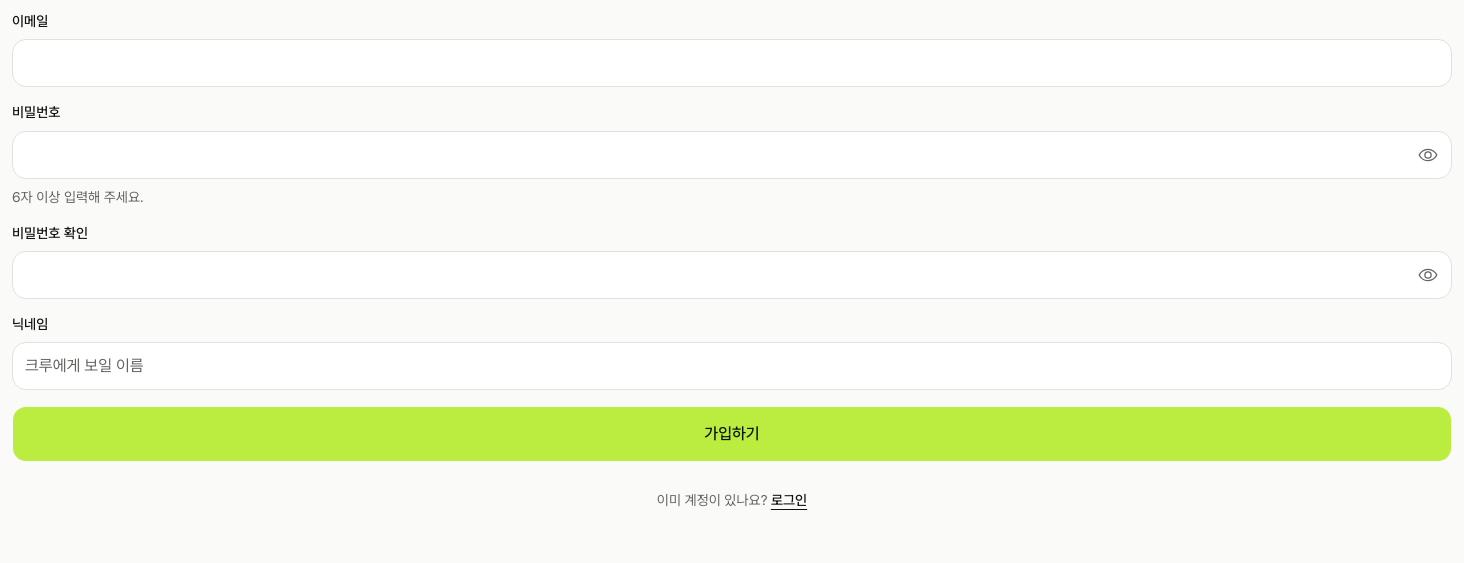
Test: AuthForm › 가입에 실패해도 입력한 값이 모두 남아 있다
The width and height of the screenshot is (1464, 563).
Type "runner@example.com" into the field labelled "이메일" at (732, 63), box [12,39,1452,87]
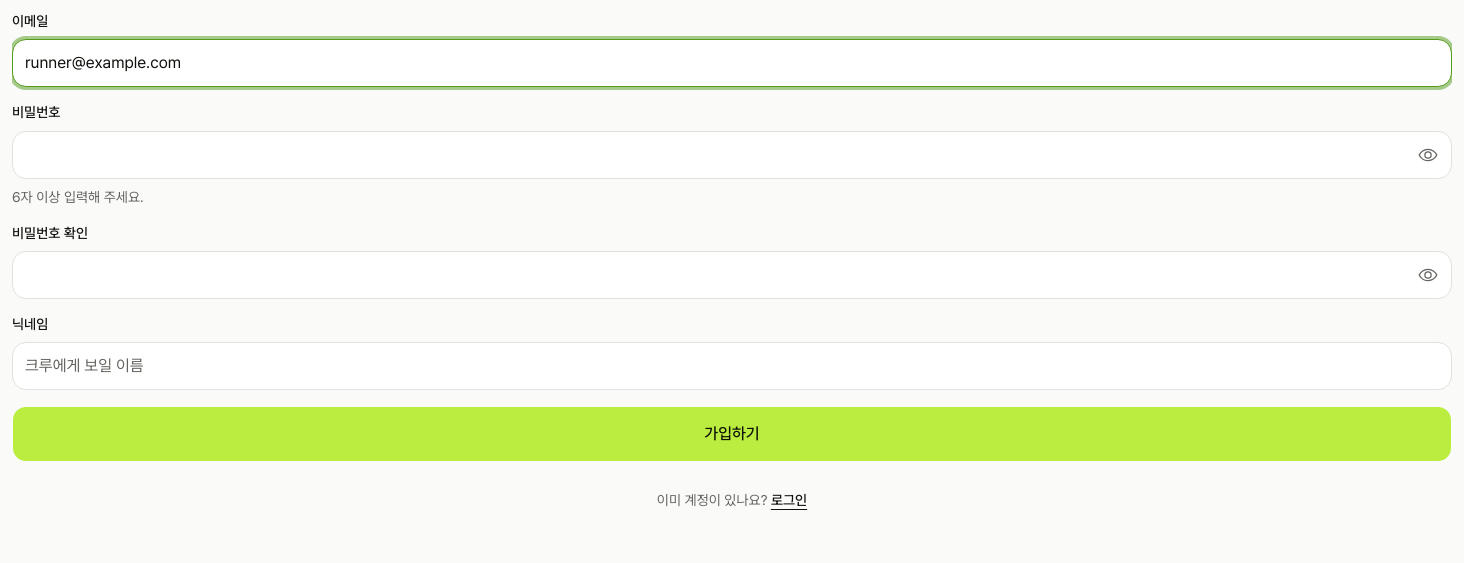
Type "123456" into the password field labelled "비밀번호" at (732, 154), box [12,130,1452,178]
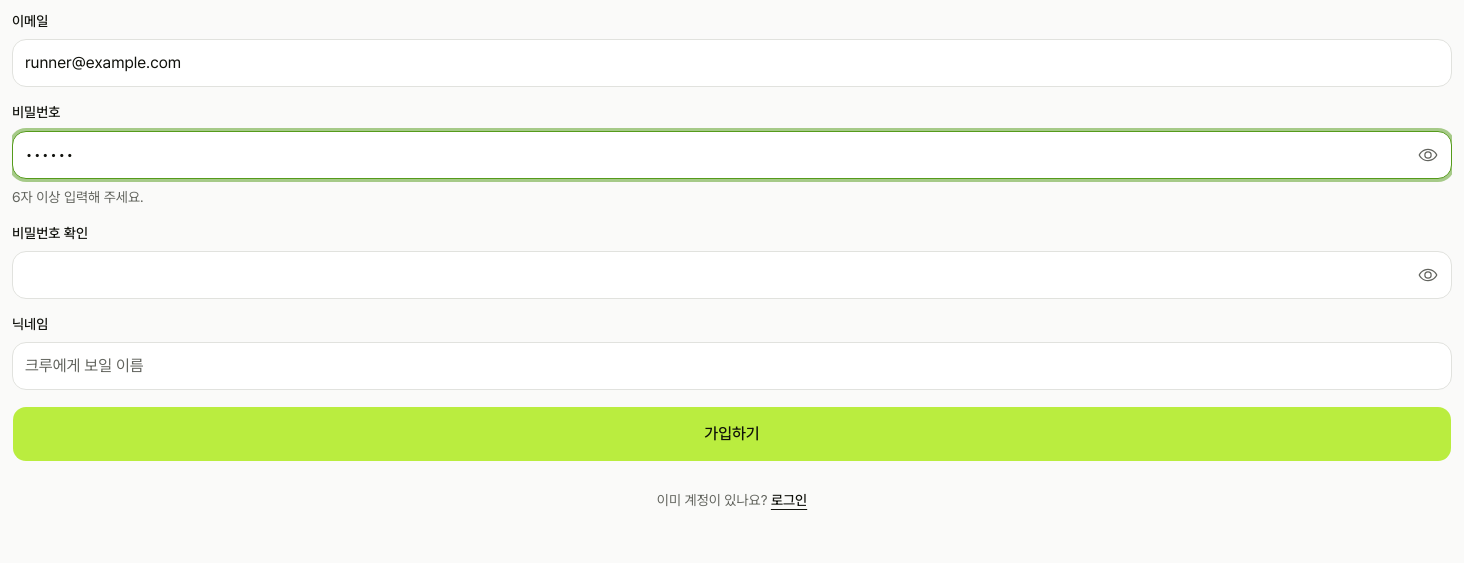
Type "123456" into the password field labelled "비밀번호 확인" at (732, 275), box [12,251,1452,299]
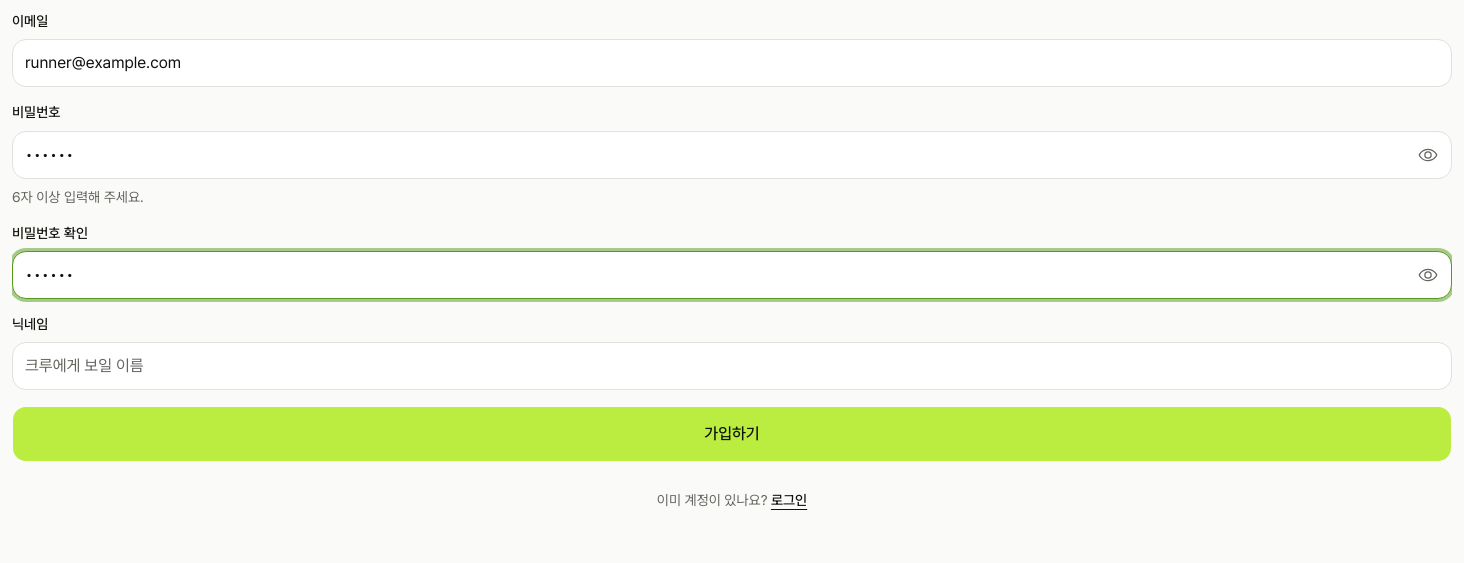
Type "땀쟁이" into the field labelled "닉네임" at (732, 366), box [12,342,1452,390]
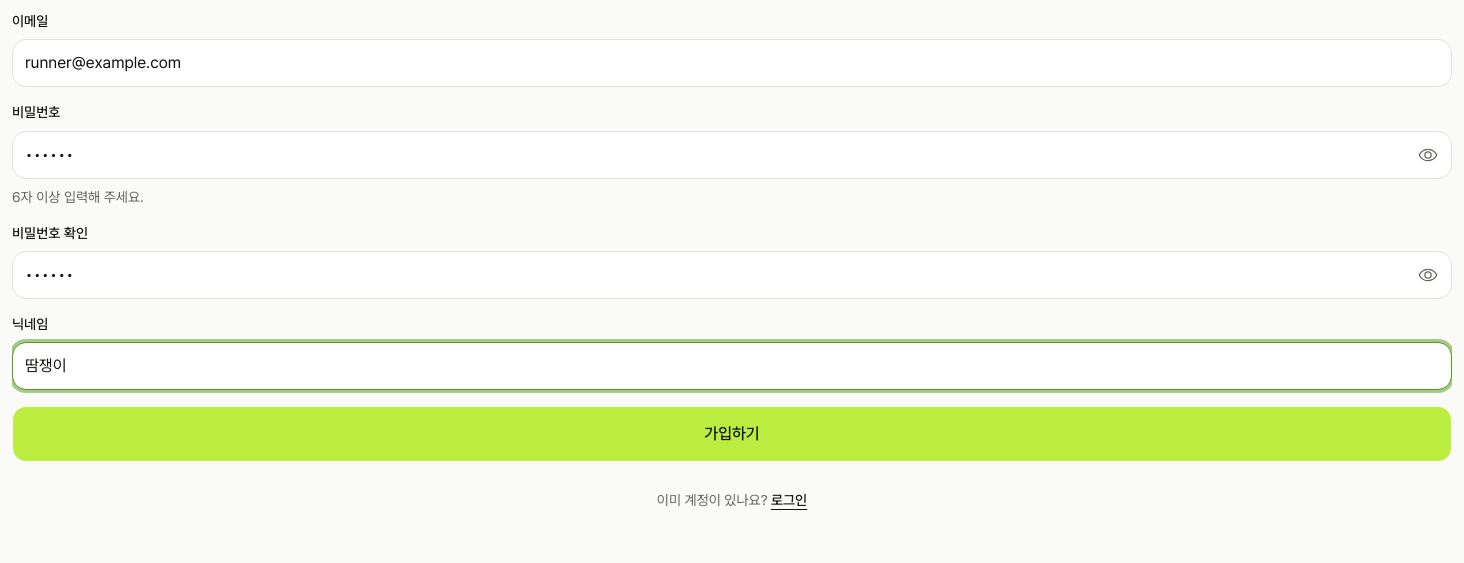
Click the button "가입하기" at (732, 434), box [12,406,1452,462]
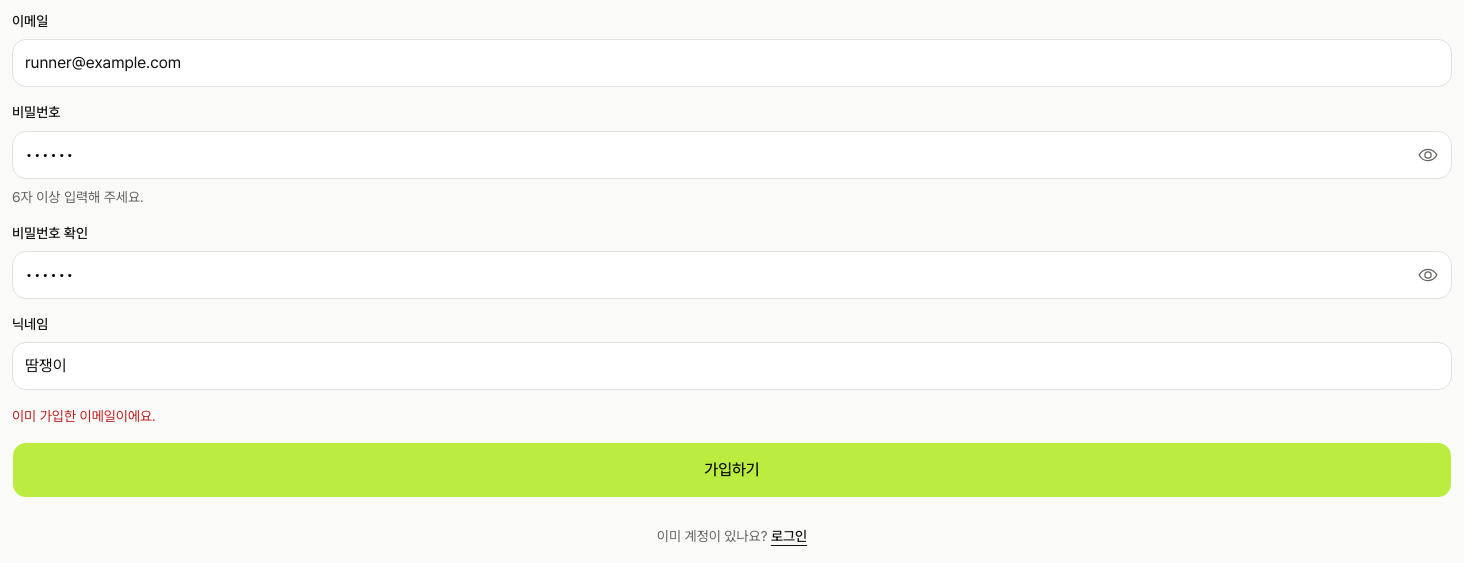
Result: the message reads "이미 가입한 이메일이에요." at [12,408,156,424]
